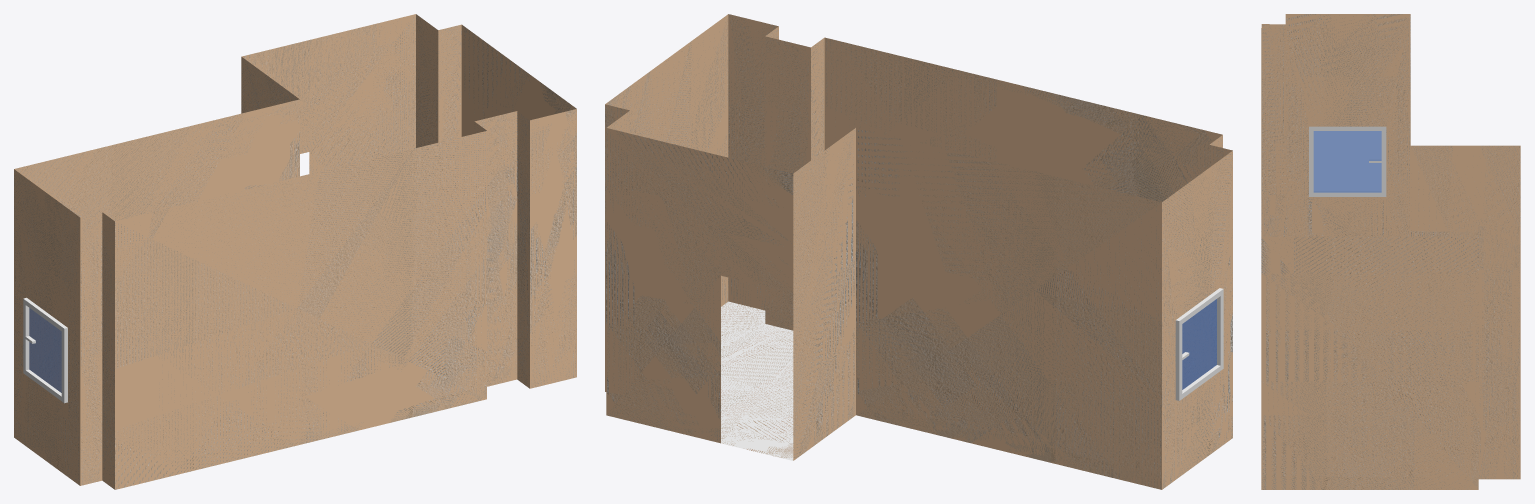
Rendered from DES014.obj.
3 views of the same model, side by side, from view 1: azimuth 30°, elevation 25°; view 2: azimuth 150°, elevation 25°; view 3: azimuth 270°, elevation 25° (orthographic). The views are drawn at different scales.
Visible parts, largest first — view 1: Mesh4 DES014 Model, Mesh1 ventana3_1_1 DES014 Model; view 2: Mesh4 DES014 Model, Mesh1 ventana3_1_1 DES014 Model; view 3: Mesh4 DES014 Model, Mesh1 ventana3_1_1 DES014 Model.
Part boxes in pixels (box(x1,y1,x2,y2)): Mesh4 DES014 Model: box(14, 14, 576, 489); Mesh1 ventana3_1_1 DES014 Model: box(23, 297, 67, 403); Mesh4 DES014 Model: box(605, 14, 1232, 489); Mesh1 ventana3_1_1 DES014 Model: box(1175, 288, 1223, 400); Mesh4 DES014 Model: box(1261, 14, 1520, 489); Mesh1 ventana3_1_1 DES014 Model: box(1309, 126, 1386, 196).
Size of the model in its own units: 6.84 by 3.6 by 3.34.
Materials: 6 (2 with a texture image).
